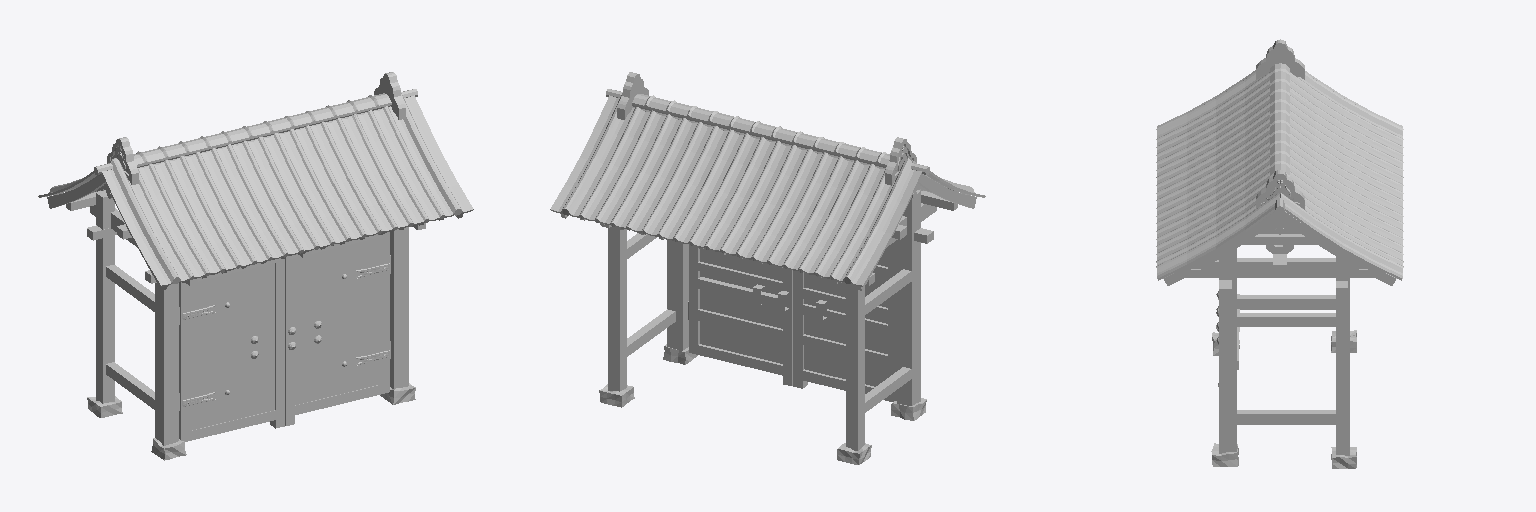
File: yakuimon.obj
3 renders of one model, left to right at view 1: azimuth 30°, elevation 25°; view 2: azimuth 150°, elevation 25°; view 3: azimuth 270°, elevation 25°, orthographic.
Parts seen in each view (by area): view 1: kawarayane, ldoor, rdoor, hashira, munekazari, hashira2, hari3, soseki1, taruki, hari; view 2: kawarayane, rdoor, ldoor, hashira, hashira2, munekazari, hari3, soseki2, soseki1, nuki, taruki; view 3: kawarayane, hari3, munekazari, hashira, hashira2, taruki, keta, soseki2, hari, keta2, soseki1.
Part boxes in pixels (x1,y1,x2,y2): kawarayane: (38, 93, 473, 286); ldoor: (179, 258, 284, 441); rdoor: (285, 232, 389, 425); hashira: (155, 227, 408, 445); munekazari: (107, 72, 405, 184); hashira2: (96, 190, 114, 403); hari3: (106, 265, 154, 409); soseki1: (151, 383, 415, 460); taruki: (48, 174, 463, 290); hari: (87, 224, 156, 283); kawarayane: (550, 95, 985, 286); rdoor: (689, 244, 792, 385); ldoor: (793, 240, 896, 401); hashira: (667, 190, 920, 405); hashira2: (608, 227, 864, 450); munekazari: (617, 72, 916, 185); hari3: (627, 233, 911, 412); soseki2: (599, 384, 871, 464); soseki1: (663, 344, 926, 420); nuki: (698, 277, 777, 307); taruki: (560, 174, 975, 290); kawarayane: (1156, 70, 1403, 280); hari3: (1237, 295, 1335, 424); munekazari: (1256, 39, 1304, 209); hashira: (1219, 249, 1236, 453); hashira2: (1336, 257, 1349, 455); taruki: (1163, 211, 1396, 285); keta: (1186, 258, 1373, 277); soseki2: (1331, 330, 1356, 468); hari: (1219, 245, 1347, 296); keta2: (1243, 234, 1316, 244); soseki1: (1211, 332, 1239, 466).
Size of the model in its own units: 1.95 by 1.74 by 1.3.